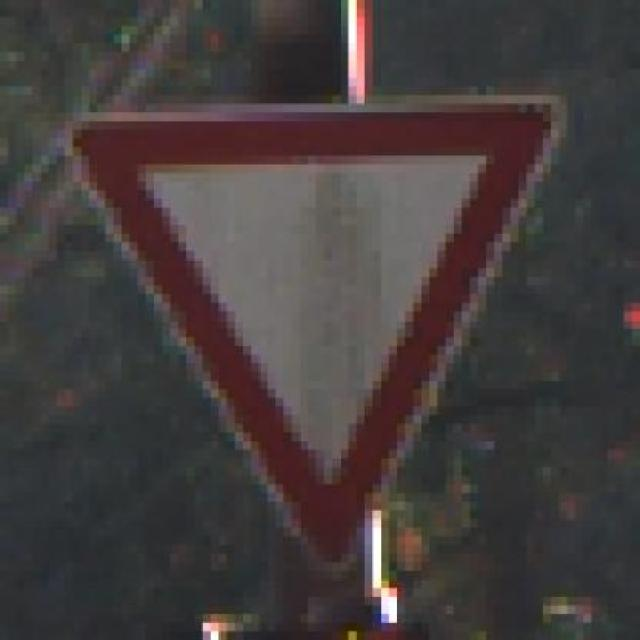Give Way: (56, 78, 567, 562)
